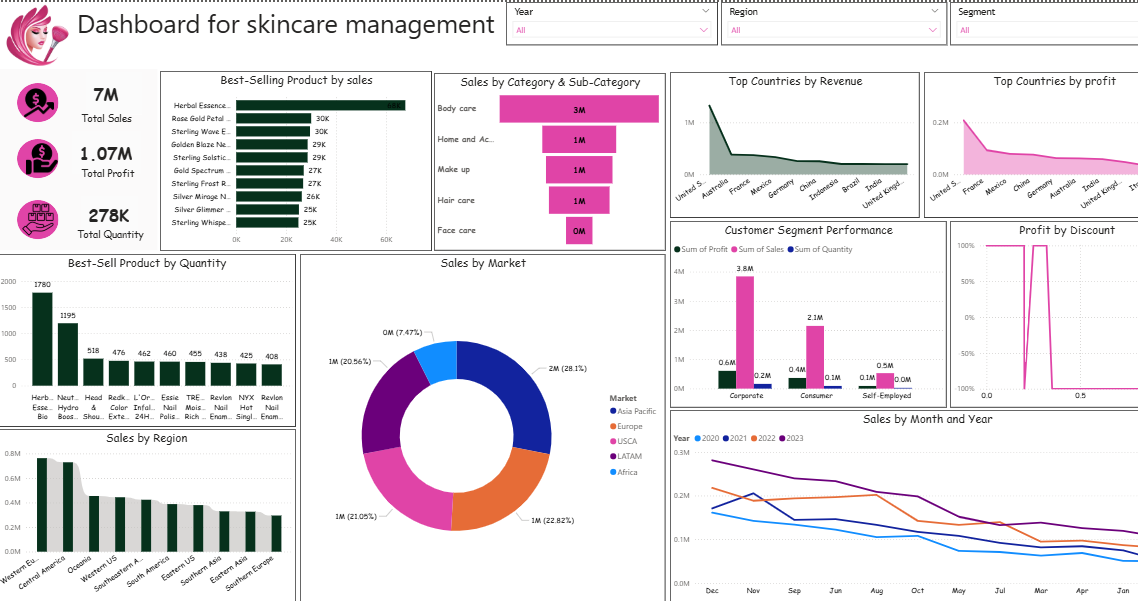

What the dashboard file says about the page in this screenshot:
{"tool":"powerbi","page":{"name":"Page 1","canvas":[2000,1000],"ordinal":0},"visuals":[{"type":"textbox","box":[150,0,820,84.3],"z":0},{"type":"textbox","box":[10.3,111.8,278.9,302],"z":1000},{"type":"shape","box":[54.8,134.5,69.5,65.5],"z":2000},{"type":"shape","box":[54.8,227.7,69.5,65.5],"z":3000},{"type":"shape","box":[54.8,330.5,69.5,65.5],"z":4000},{"type":"image","box":[66.7,134.5,49.7,64.4],"z":5000},{"type":"image","box":[69.5,227.7,52.5,65.5],"z":6000},{"type":"image","box":[63.3,335.6,53.1,55.9],"z":7000},{"type":"cardVisual","fields":{"Data":["Sum(Dataset.Sales)"]},"box":[165,111.9,103.4,81.9],"z":8000},{"type":"cardVisual","fields":{"Data":["Sum(Dataset.Profit)"]},"box":[141.8,210.7,126.6,82.5],"z":9000},{"type":"cardVisual","fields":{"Data":["Sum(Dataset.Quantity)"]},"box":[157.1,318.6,105.1,72.9],"z":10000},{"type":"textbox","box":[157.1,177.4,105.1,44.1],"z":11000},{"type":"textbox","box":[157.1,268.4,105.1,34.5],"z":12000},{"type":"textbox","box":[149.7,370.6,133.3,32.8],"z":13000},{"type":"barChart","title":"Best-Selling Product by sales","fields":{"Category":["Dataset.Product"],"Y":["Sum(Dataset.Sales)"]},"box":[293.8,114.8,453.1,300],"z":14000},{"type":"clusteredColumnChart","title":"Best-Sell Product by Quantity","fields":{"Category":["Dataset.Product"],"Y":["Sum(Dataset.Quantity)"]},"box":[21.4,419.6,498.2,287.5],"z":15000},{"type":"funnel","title":"Sales by Category & Sub-Category","fields":{"Category":["Dataset.Category","Dataset.Subcategory"],"Y":["Sum(Dataset.Sales)"]},"box":[750,117.9,385.7,296.4],"z":16000},{"type":"ribbonChart","title":"Sales by Region","fields":{"Category":["Dataset.Region"],"Y":["Sum(Dataset.Sales)"]},"box":[19.6,712.5,500,287.5],"z":17000},{"type":"donutChart","title":"Sales by Market","fields":{"Category":["Dataset.Market"],"Y":["Sum(Dataset.Sales)"]},"box":[526.8,419.6,608.9,580.4],"z":18000},{"type":"lineChart","title":"Sales by Month and Year","fields":{"Y":["Sum(Dataset.Sales)"],"Category":["Dataset.Month"],"Series":["Dataset.Year"]},"box":[1142.9,680.4,857.1,319.6],"z":19000},{"type":"clusteredColumnChart","title":"Customer Segment Performance","fields":{"Category":["Dataset.Segment"],"Y":["Sum(Dataset.Profit)","Sum(Dataset.Sales)","Sum(Dataset.Quantity)"]},"box":[1142.9,364.3,460.7,310.7],"z":20000},{"type":"hundredPercentStackedAreaChart","title":"Profit by Discount","fields":{"Category":["Dataset.Discount"],"Y":["Sum(Dataset.Profit)"]},"box":[1610.7,364.3,389.3,310.7],"z":20001},{"type":"stackedAreaChart","title":"Top Countries by Revenue ","fields":{"Category":["Dataset.Country"],"Y":["Sum(Dataset.Sales)"]},"box":[1142.9,116.1,416.1,242.9],"z":20002},{"type":"stackedAreaChart","title":"Top Countries by profit","fields":{"Category":["Dataset.Country"],"Y":["Sum(Dataset.Profit)"]},"box":[1566.1,116.1,433.9,242.9],"z":20003},{"type":"slicer","fields":{"Values":["Dataset.Year"]},"box":[870.2,0,353.2,72.3],"z":20004},{"type":"slicer","fields":{"Values":["Dataset.Country"]},"box":[1227.7,0,376.6,72.3],"z":20005},{"type":"slicer","fields":{"Values":["Dataset.Segment"]},"box":[1610.6,0,389.4,72.3],"z":20006},{"type":"image","box":[17,0,144.7,112.8],"z":20007}]}

Visuals, with their boxes in screenshot pixels (x1, y1, x2, y2):
textbox: bbox=(67, 0, 561, 51)
textbox: bbox=(0, 67, 151, 250)
shape: bbox=(9, 81, 51, 121)
shape: bbox=(9, 137, 51, 177)
shape: bbox=(9, 199, 51, 239)
image: bbox=(17, 81, 46, 120)
image: bbox=(18, 137, 50, 177)
image: bbox=(14, 202, 46, 236)
cardVisual - Sum(Dataset.Sales): bbox=(76, 67, 138, 117)
cardVisual - Sum(Dataset.Profit): bbox=(62, 127, 138, 177)
cardVisual - Sum(Dataset.Quantity): bbox=(71, 192, 134, 236)
textbox: bbox=(71, 107, 134, 134)
textbox: bbox=(71, 162, 134, 183)
textbox: bbox=(67, 224, 147, 243)
"Best-Selling Product by sales" barChart: bbox=(153, 69, 427, 250)
"Best-Sell Product by Quantity" clusteredColumnChart: bbox=(0, 253, 290, 426)
"Sales by Category & Sub-Category" funnel: bbox=(429, 71, 661, 250)
"Sales by Region" ribbonChart: bbox=(0, 430, 290, 600)
"Sales by Market" donutChart: bbox=(294, 253, 661, 600)
"Sales by Month and Year" lineChart: bbox=(666, 410, 1137, 600)
"Customer Segment Performance" clusteredColumnChart: bbox=(666, 220, 943, 407)
"Profit by Discount" hundredPercentStackedAreaChart: bbox=(948, 220, 1137, 407)
"Top Countries by Revenue " stackedAreaChart: bbox=(666, 70, 917, 217)
"Top Countries by profit" stackedAreaChart: bbox=(921, 70, 1137, 217)
slicer - Dataset.Year: bbox=(501, 0, 714, 44)
slicer - Dataset.Country: bbox=(717, 0, 944, 44)
slicer - Dataset.Segment: bbox=(948, 0, 1137, 44)
image: bbox=(0, 0, 74, 68)
